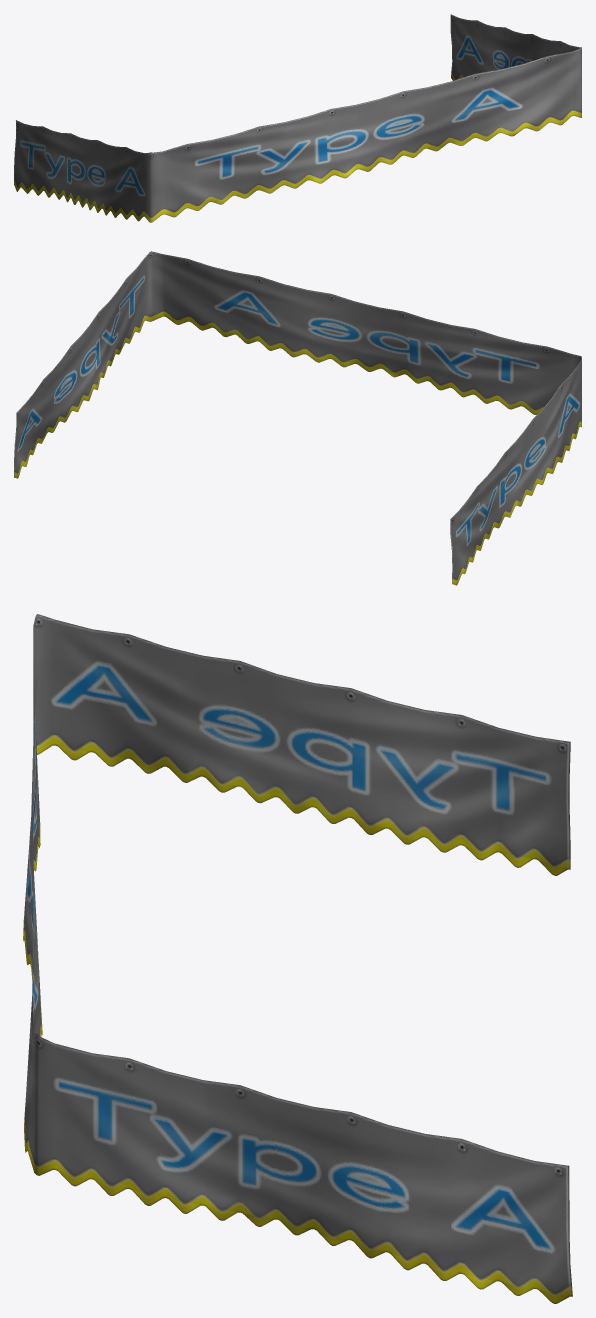
The model's file is jsf_ShopCurtain_a_s04.fbx.
The picture shows the model from 3 angles, top to bottom: view 1: azimuth 30°, elevation 25°; view 2: azimuth 150°, elevation 25°; view 3: azimuth 270°, elevation 25°; orthographic projection. The views are drawn at different scales.
Parts seen in each view (by area): view 1: jsf_ShopCurtain_a_s04; view 2: jsf_ShopCurtain_a_s04; view 3: jsf_ShopCurtain_a_s04.
Part boxes in pixels (x1,y1,x2,y2): jsf_ShopCurtain_a_s04: (14,14,581,222); jsf_ShopCurtain_a_s04: (14,251,581,585); jsf_ShopCurtain_a_s04: (23,614,572,1303).
Bounding box in the file's own units: 404 × 116 × 216.
